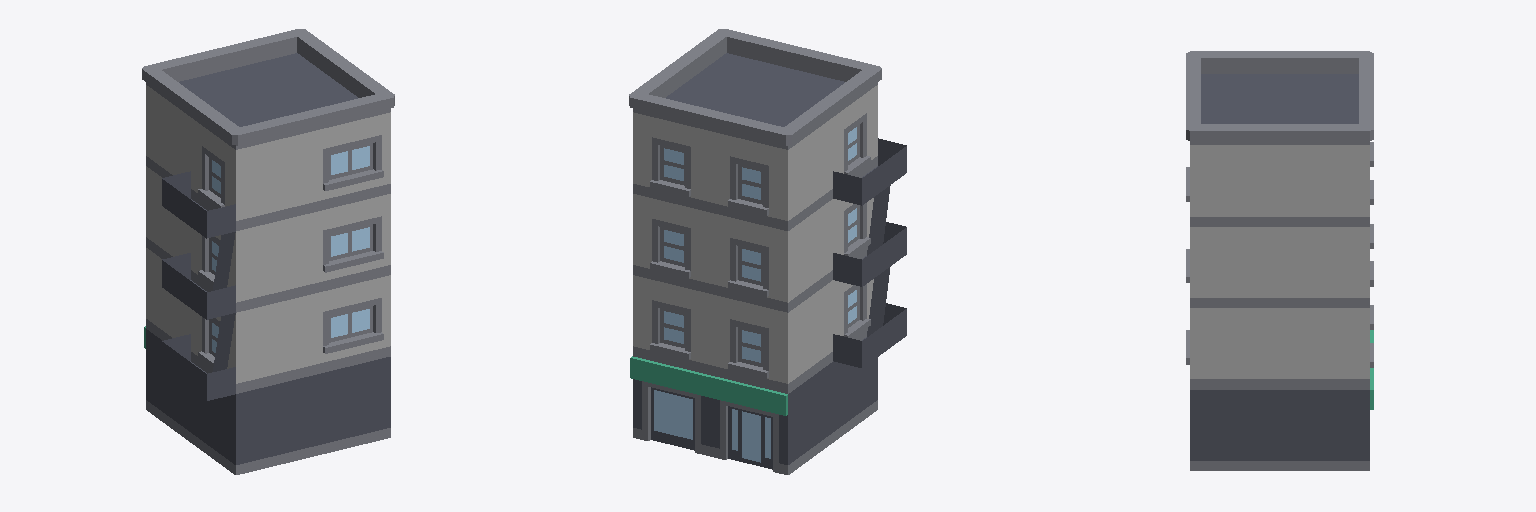
Rendered from large_buildingC.002.obj.
3 views of the same model, side by side, from view 1: azimuth 30°, elevation 25°; view 2: azimuth 150°, elevation 25°; view 3: azimuth 270°, elevation 25° (orthographic).
Parts seen in each view (by area): view 1: large_buildingC; view 2: large_buildingC; view 3: large_buildingC.
Part boxes in pixels (left/top/right/bottom): large_buildingC: left=142, top=29, right=394, bottom=474; large_buildingC: left=629, top=29, right=906, bottom=474; large_buildingC: left=1186, top=51, right=1373, bottom=470.
Bounding box in the file's own units: 17.71 × 30.67 × 15.33.